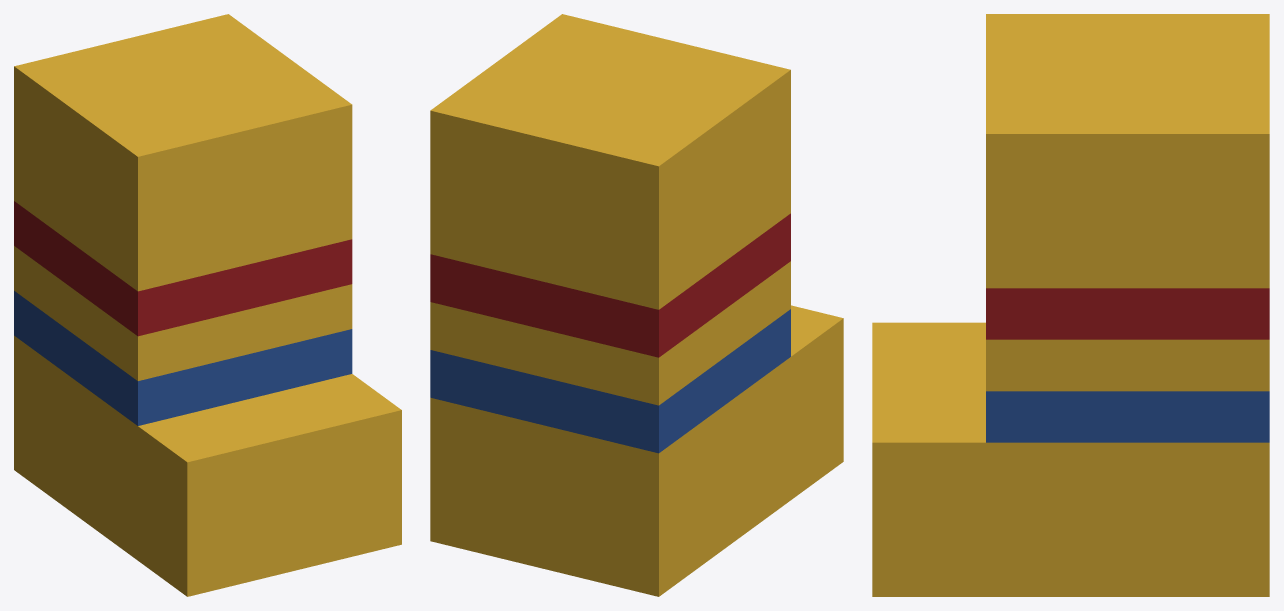
File: Hathor-1.obj
3 views of the same model, side by side, from view 1: azimuth 30°, elevation 25°; view 2: azimuth 150°, elevation 25°; view 3: azimuth 270°, elevation 25° (orthographic). The views are drawn at different scales.
Size of the model in its own units: 0.5 by 0.9 by 0.7.
1 material, 1 textured.
